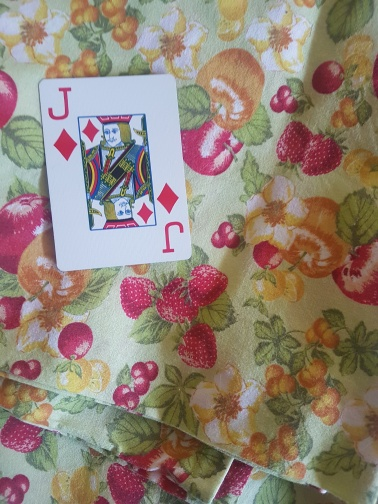jack: (38, 74, 194, 272)
